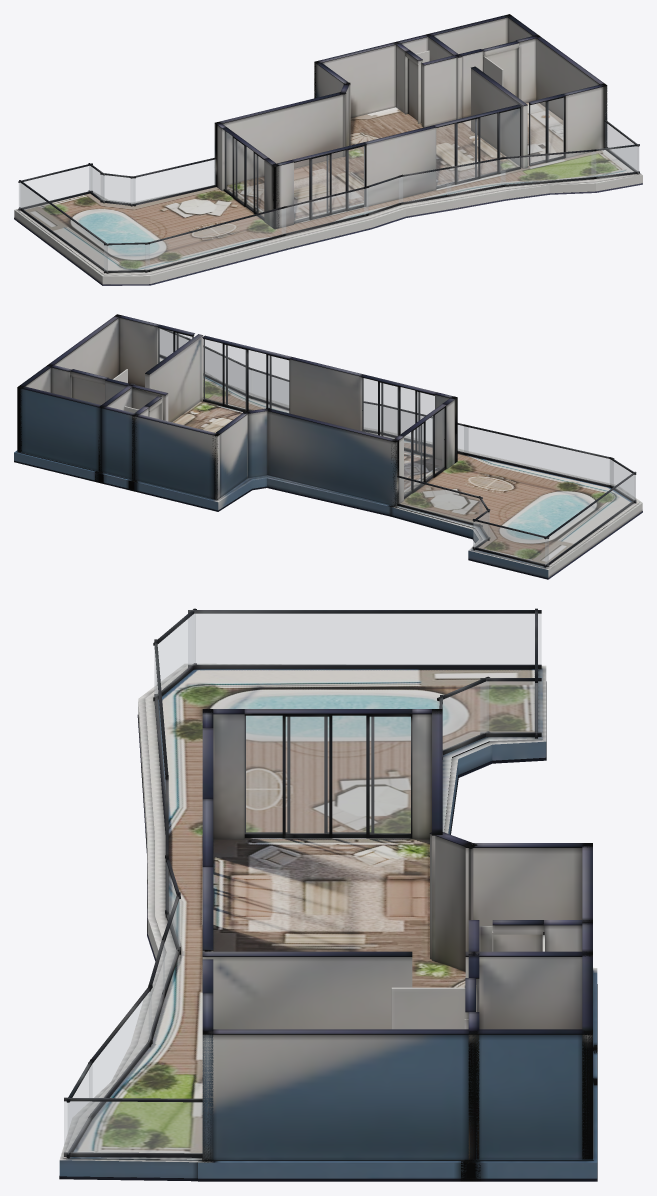
3 renders of one model, top to bottom at view 1: azimuth 30°, elevation 25°; view 2: azimuth 150°, elevation 25°; view 3: azimuth 270°, elevation 25°, orthographic. The views are drawn at different scales.
Parts seen in each view (by area): view 1: plan, glass2_m, railg17_m, glass1_m, railg13_m, railg8_m, railg4_m, railg10_m, glass0_m, glass3_m, railg0_m, railg14_m (+7 smaller); view 2: plan, glass2_m, railg17_m, glass1_m, railg8_m, railg10_m, glass0_m, railg0_m, railg13_m, railg4_m, railg14_m, railg18_m (+2 smaller); view 3: plan, glass0_m, railg8_m, railg11_m, railg7_m, railg13_m, railg9_m, railg18_m, railg12_m.
Part boxes in pixels (x1,y1,x2,y2): plan: (14, 14, 642, 285); glass2_m: (436, 108, 519, 186); railg17_m: (145, 208, 285, 270); glass1_m: (294, 146, 364, 221); railg13_m: (501, 151, 595, 184); railg8_m: (20, 183, 107, 271); railg4_m: (282, 188, 368, 234); railg10_m: (131, 159, 215, 203); glass0_m: (224, 131, 263, 216); glass3_m: (530, 98, 563, 163); railg0_m: (19, 166, 91, 208); railg14_m: (447, 159, 505, 194); plan: (14, 314, 642, 579); glass2_m: (203, 339, 288, 412); railg17_m: (464, 426, 613, 485); glass1_m: (362, 378, 434, 454); railg8_m: (545, 475, 634, 565); railg10_m: (398, 478, 481, 522); glass0_m: (404, 408, 444, 496); railg0_m: (473, 521, 548, 564); railg13_m: (205, 349, 244, 392); railg4_m: (384, 407, 468, 452); railg14_m: (253, 371, 288, 407); railg18_m: (610, 459, 635, 500); plan: (59, 608, 597, 1181); glass0_m: (245, 716, 410, 833); railg8_m: (188, 614, 541, 664); railg11_m: (64, 1101, 202, 1153); railg7_m: (481, 681, 541, 732); railg13_m: (89, 990, 151, 1112); railg9_m: (438, 681, 488, 750); railg18_m: (154, 614, 195, 697); railg12_m: (68, 1065, 92, 1153).
Size of the model in its own units: 19.26 by 2.62 by 8.78.
2 materials, 1 textured.
